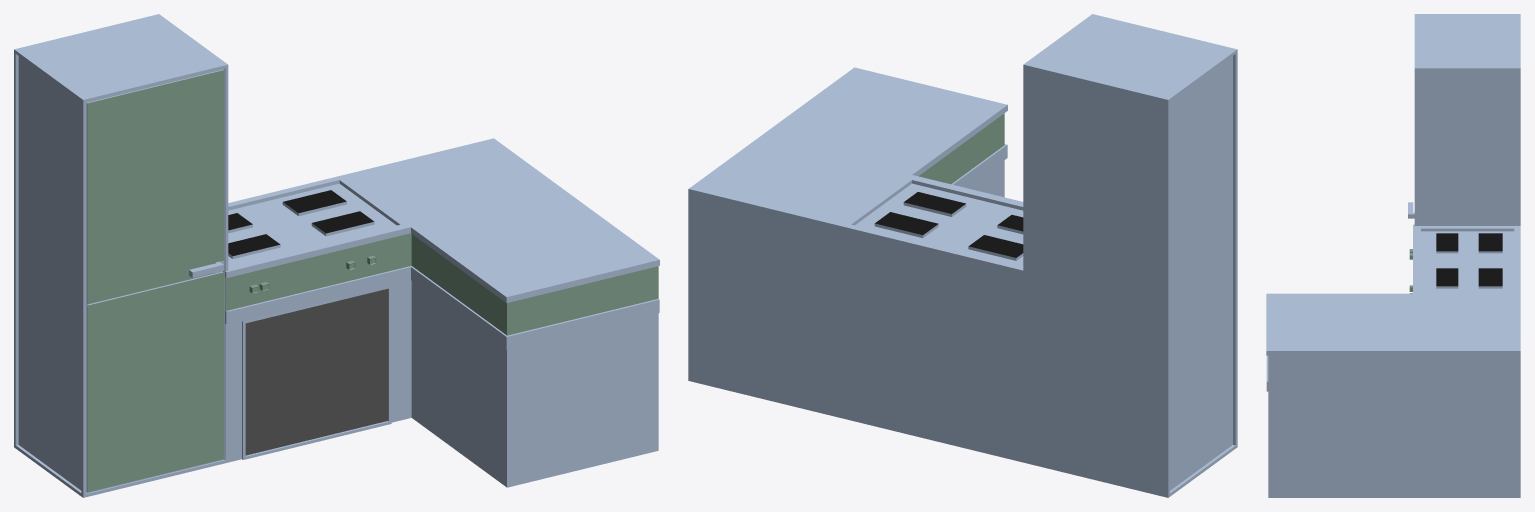
The model's file is EB_Kitchen.fbx.
The picture shows the model from 3 angles, left to right: view 1: azimuth 30°, elevation 25°; view 2: azimuth 150°, elevation 25°; view 3: azimuth 270°, elevation 25°; orthographic projection. The views are drawn at different scales.
Visible parts, largest first — view 1: Kitchen; view 2: Kitchen; view 3: Kitchen.
Part boxes in pixels (x1,y1,x2,y2): Kitchen: (14,14,659,497); Kitchen: (688,14,1237,497); Kitchen: (1266,14,1520,497).
Bounding box in the file's own units: 523 × 415 × 314.
